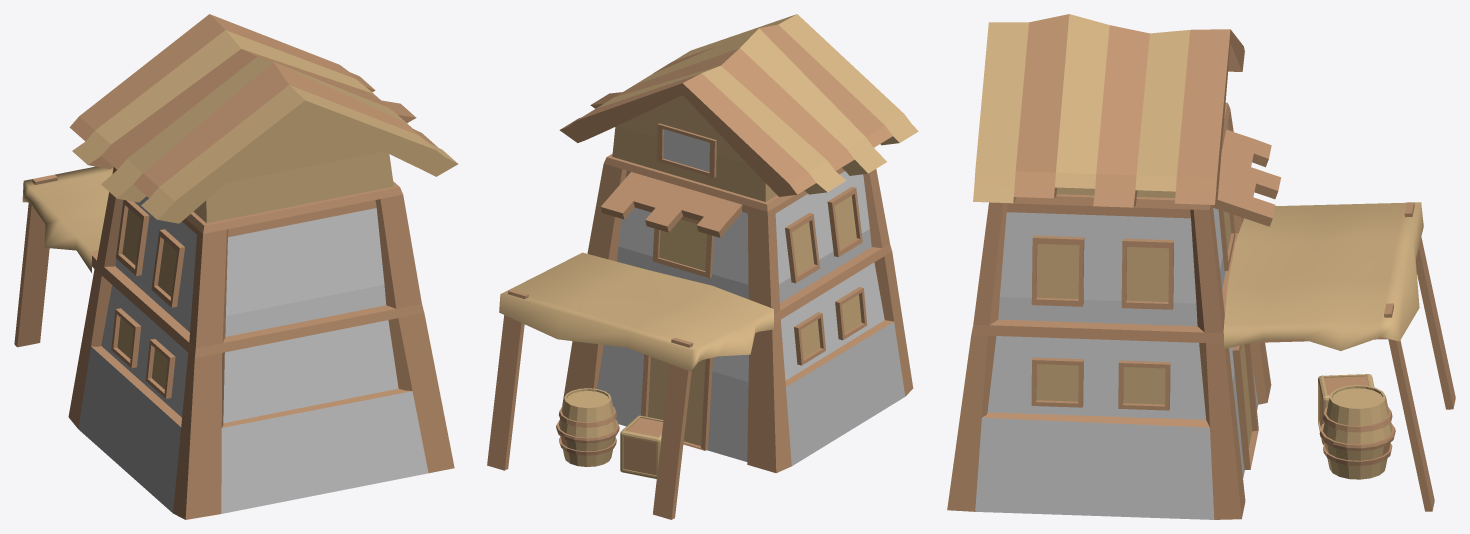
File: tap fire house 2.fbx
3 renders of one model, left to right at view 1: azimuth 30°, elevation 25°; view 2: azimuth 150°, elevation 25°; view 3: azimuth 270°, elevation 25°, orthographic. The views are drawn at different scales.
Parts seen in each view (by area): view 1: polySurface44, polySurface2, polySurface43, polySurface4, polySurface41, polySurface6, polySurface35, polySurface7, polySurface8; view 2: polySurface2, polySurface44, polySurface4, polySurface43, polySurface41, polySurface3, Barrel.001, polySurface5, polySurface38, polySurface34, Box, polySurface35 (+3 smaller); view 3: polySurface44, polySurface2, polySurface4, polySurface43, Barrel.001, polySurface41, polySurface3, polySurface37, polySurface36, polySurface32, polySurface31, polySurface5 (+2 smaller).
Boxes of the visible parts, bbox=[...] form: polySurface44: bbox=[68, 261, 454, 519]; polySurface2: bbox=[69, 14, 458, 223]; polySurface43: bbox=[97, 167, 421, 348]; polySurface4: bbox=[22, 166, 113, 272]; polySurface41: bbox=[14, 174, 98, 347]; polySurface6: bbox=[151, 229, 184, 307]; polySurface35: bbox=[116, 200, 149, 275]; polySurface7: bbox=[111, 308, 141, 368]; polySurface8: bbox=[145, 339, 175, 398]; polySurface2: bbox=[559, 14, 918, 201]; polySurface44: bbox=[562, 244, 913, 473]; polySurface4: bbox=[499, 252, 773, 371]; polySurface43: bbox=[587, 153, 889, 314]; polySurface41: bbox=[487, 289, 757, 519]; polySurface3: bbox=[600, 172, 742, 237]; Barrel.001: bbox=[556, 388, 619, 466]; polySurface5: bbox=[641, 354, 712, 450]; polySurface38: bbox=[652, 216, 713, 278]; polySurface34: bbox=[657, 123, 716, 177]; Box: bbox=[620, 415, 663, 478]; polySurface35: bbox=[785, 213, 820, 283]; polySurface44: bbox=[947, 233, 1271, 519]; polySurface2: bbox=[973, 14, 1244, 207]; polySurface4: bbox=[1224, 202, 1423, 350]; polySurface43: bbox=[973, 102, 1243, 333]; Barrel.001: bbox=[1319, 385, 1395, 479]; polySurface41: bbox=[1223, 202, 1455, 511]; polySurface3: bbox=[1213, 129, 1280, 226]; polySurface37: bbox=[1121, 238, 1173, 309]; polySurface36: bbox=[1031, 235, 1084, 306]; polySurface32: bbox=[1031, 357, 1083, 407]; polySurface31: bbox=[1118, 360, 1170, 410]; polySurface5: bbox=[1232, 343, 1258, 469].
Size of the model in its own units: 5.43 by 6.74 by 7.2.
